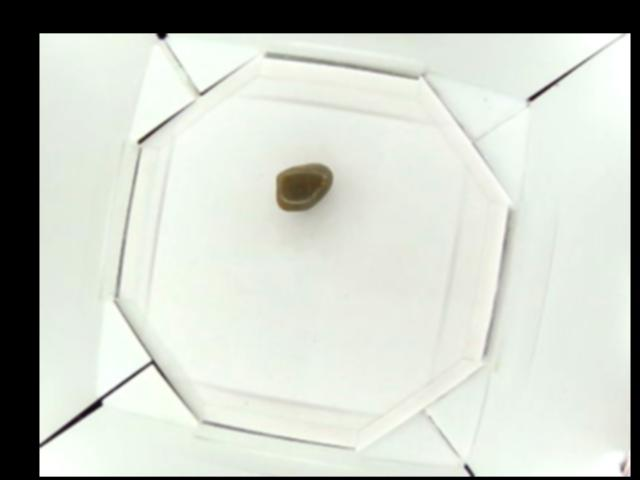Pebble: (276, 159, 333, 209)
